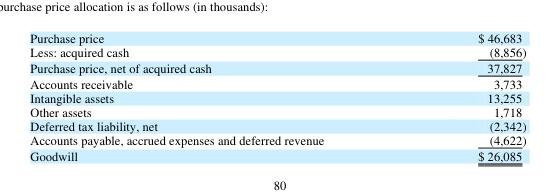table: (29, 28, 525, 163)
table column: (29, 28, 400, 163), (400, 28, 525, 163)
table row: (29, 146, 525, 163), (29, 28, 525, 44), (29, 59, 525, 75), (29, 44, 525, 59), (29, 75, 525, 90), (29, 90, 525, 104), (29, 104, 525, 118), (29, 118, 525, 132), (29, 132, 525, 146)
